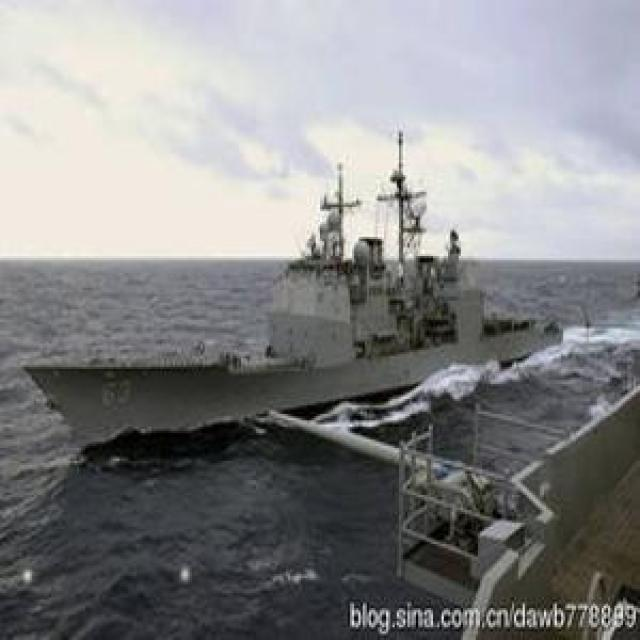navalvessels: (19, 143, 577, 498)
